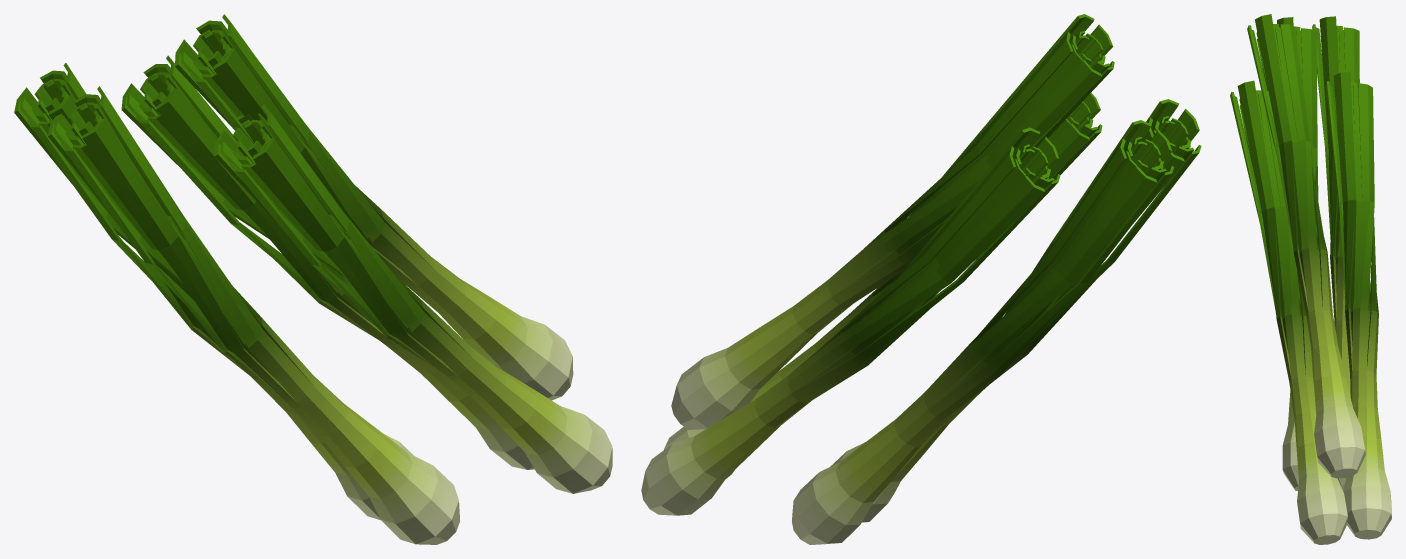
File: onion.fbx
3 renders of one model, left to right at view 1: azimuth 30°, elevation 25°; view 2: azimuth 150°, elevation 25°; view 3: azimuth 270°, elevation 25°, orthographic. The views are drawn at different scales.
Parts seen in each view (by area): view 1: Cylinder.039; view 2: Cylinder.039; view 3: Cylinder.039.
Boxes of the visible parts, x1=… form: Cylinder.039: x1=14, y1=14, x2=612, y2=544; Cylinder.039: x1=641, y1=14, x2=1201, y2=544; Cylinder.039: x1=1230, y1=14, x2=1391, y2=544.
Size of the model in its own units: 0.2059 by 0.207 by 0.0754.
Materials: 1 (1 with a texture image).
